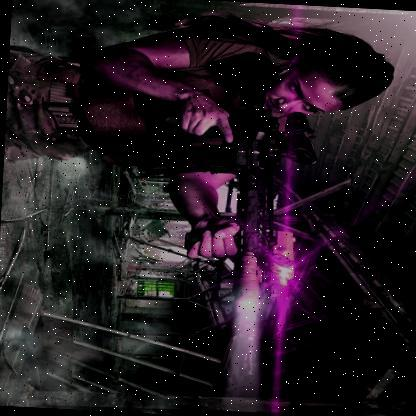rifle: (126, 50, 321, 310)
